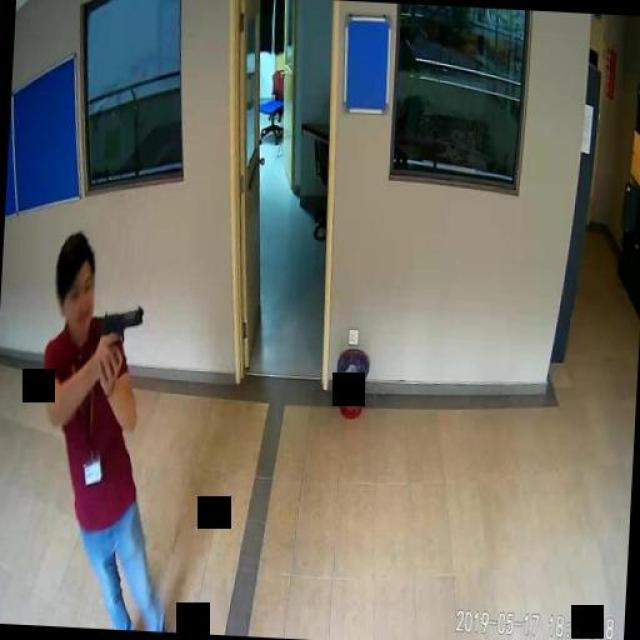gun: (96, 303, 142, 377)
